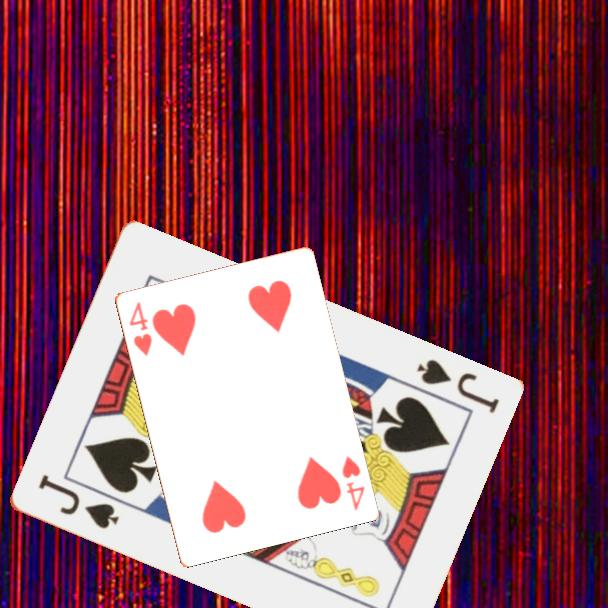h04: (125, 298, 154, 359), (338, 452, 367, 513)
s11: (412, 356, 502, 417), (34, 471, 122, 533)
